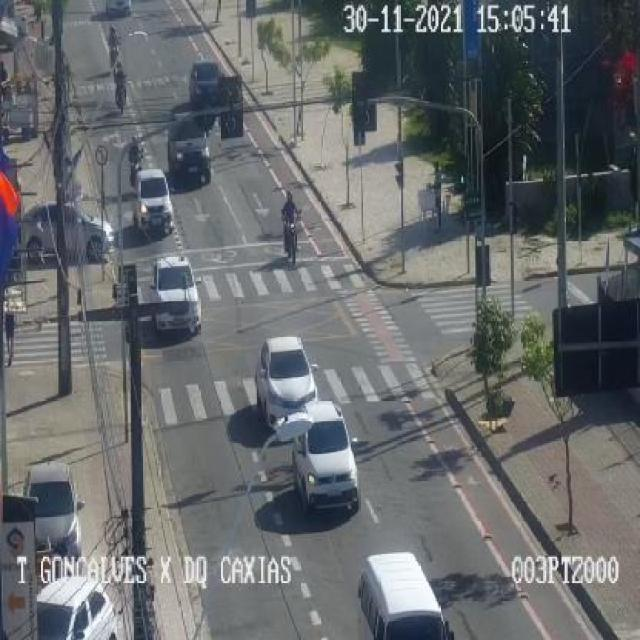Bus: (356, 549, 456, 640)
Car: (286, 400, 363, 520), (15, 460, 87, 570), (14, 198, 115, 264), (19, 574, 118, 640), (257, 332, 317, 429), (148, 250, 205, 338), (132, 165, 176, 242), (166, 118, 212, 184), (190, 60, 226, 111), (104, 0, 132, 20)
Cycle: (282, 213, 302, 265), (106, 36, 123, 68), (115, 76, 126, 118)
